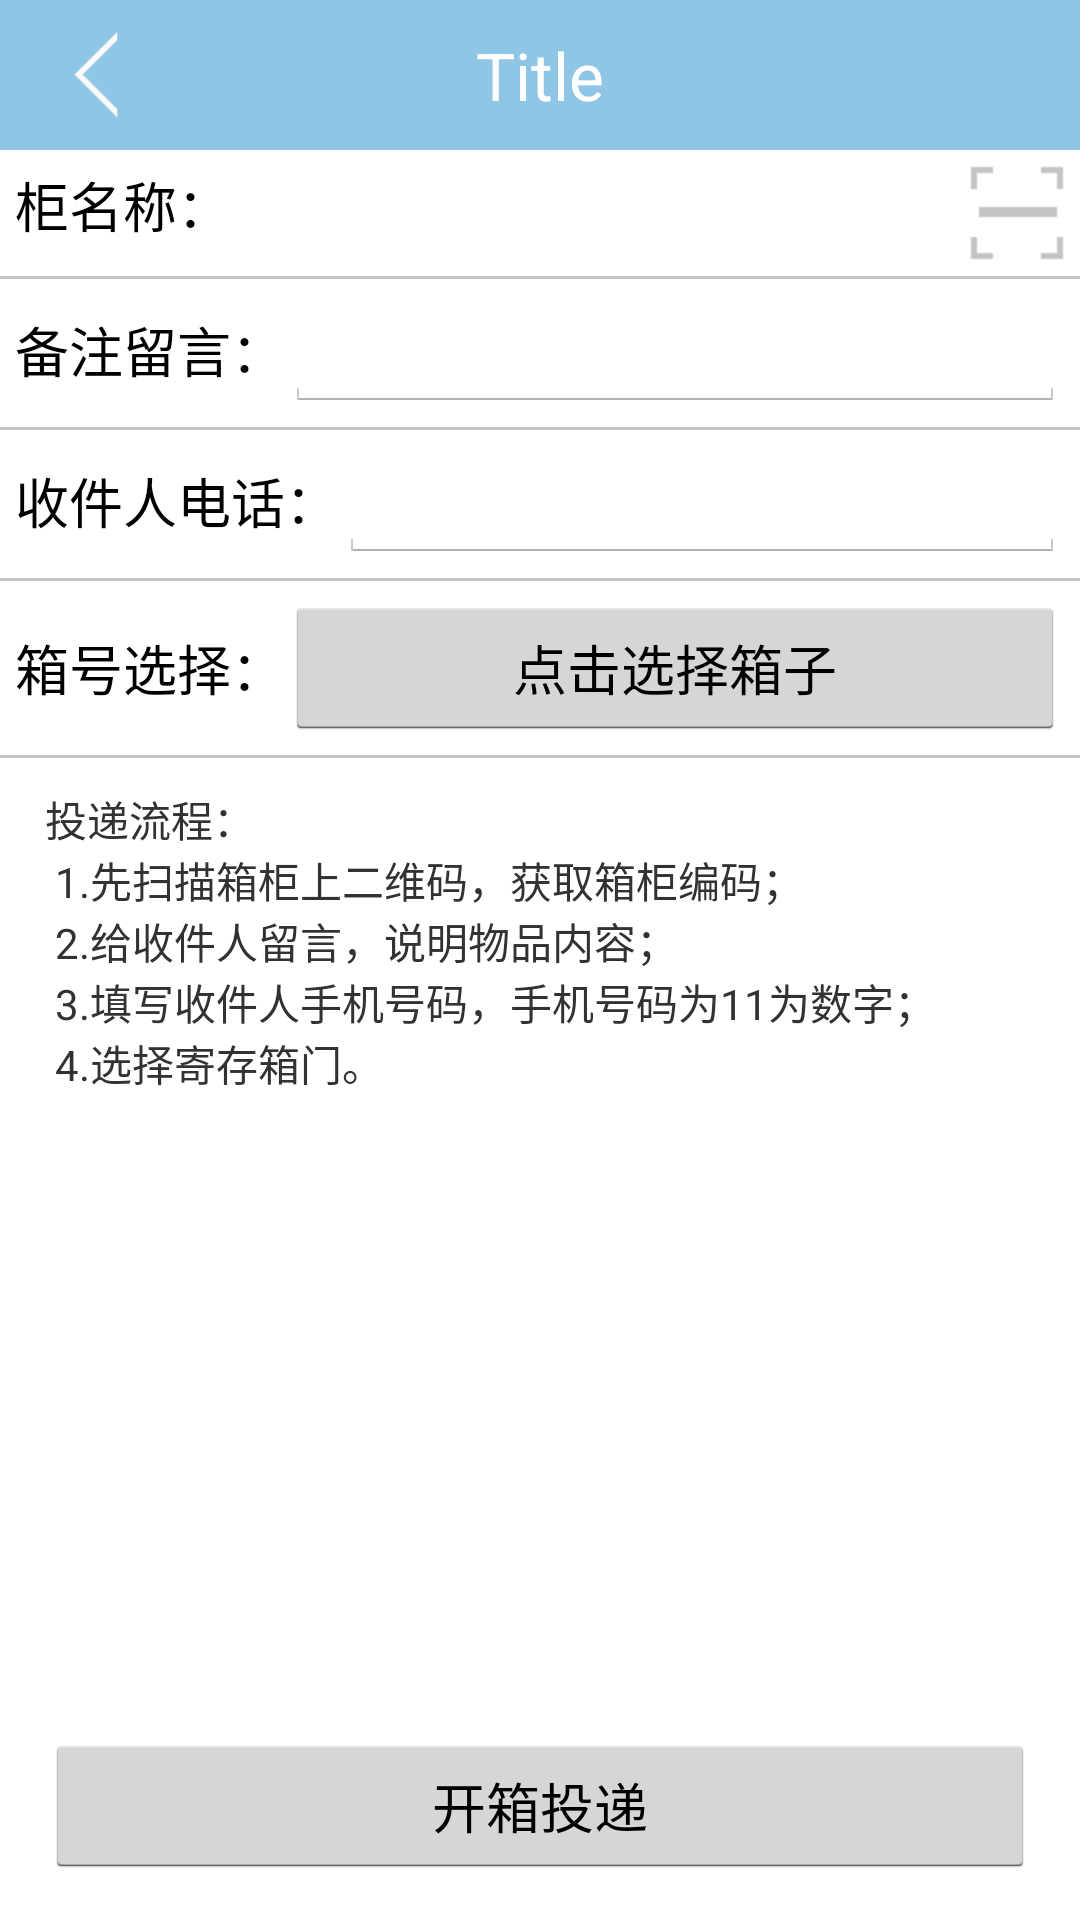

Locate icon controls on the screen. Image size 1080x1920, boxes as box=[x1, y1, x2, y2].
back: box=[74, 32, 118, 118]
saoyisao: box=[971, 167, 1063, 259]
